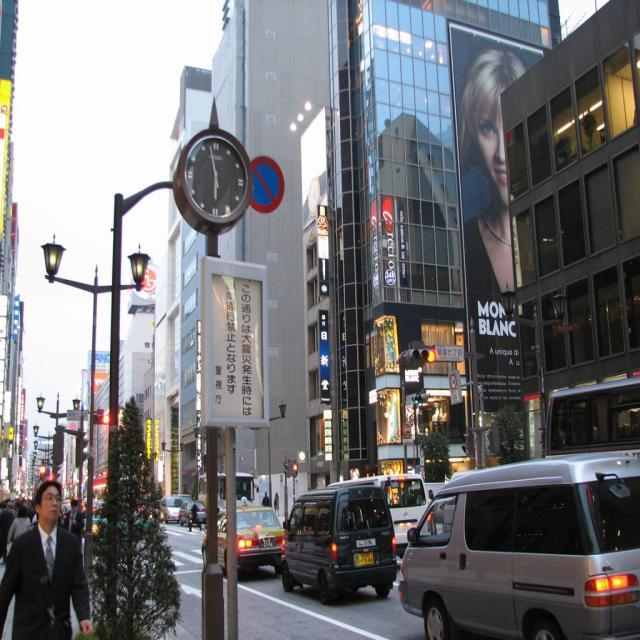road_sign: (250, 157, 285, 214)
traffic light: (409, 347, 436, 361)
